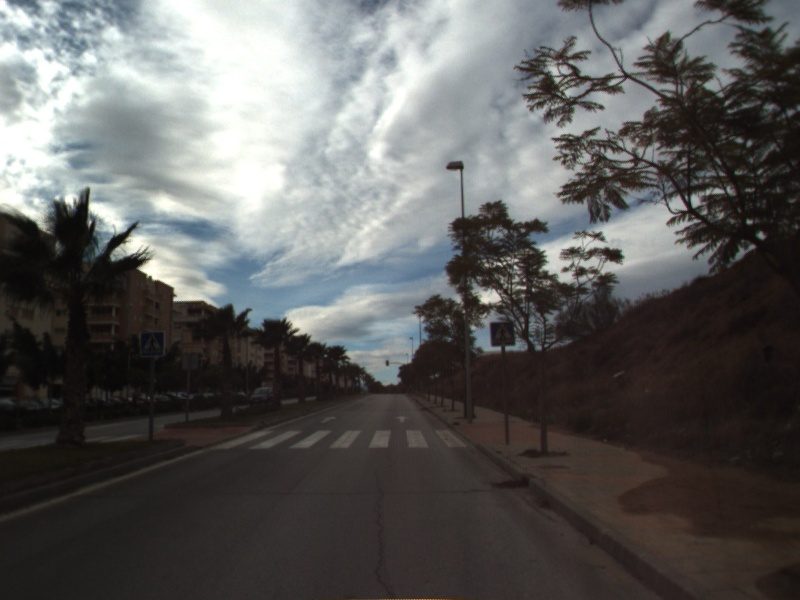STRAIGHT: (318, 414, 339, 425), (393, 414, 412, 424)
